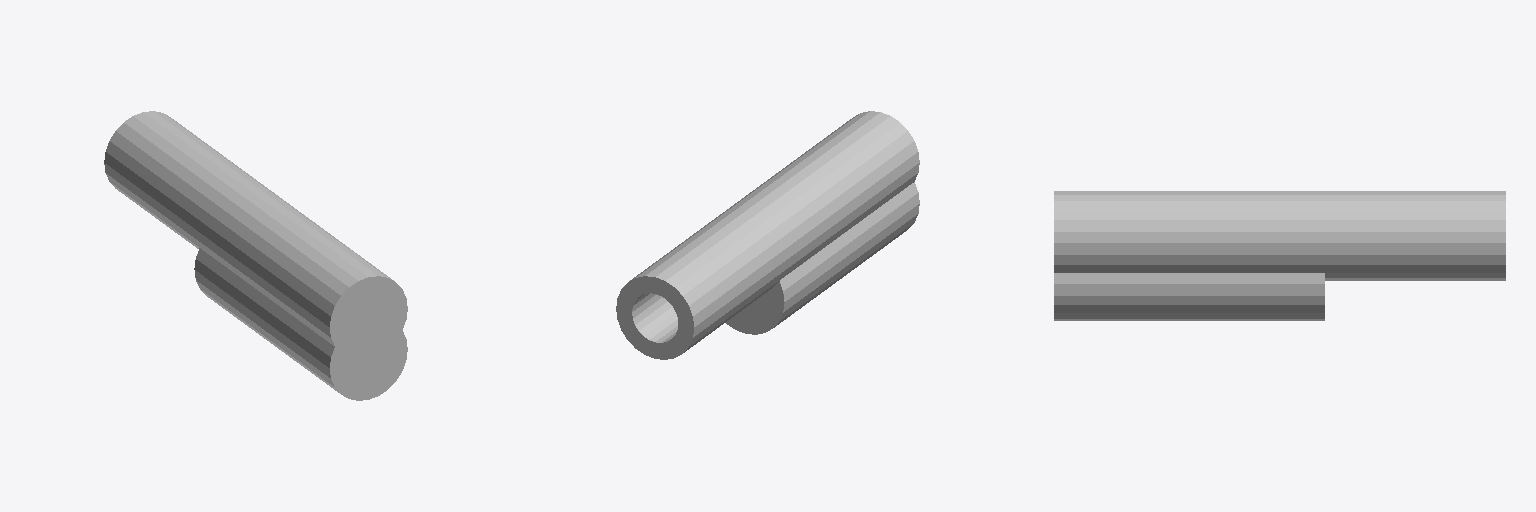
File: barrel4.model.obj
3 views of the same model, side by side, from view 1: azimuth 30°, elevation 25°; view 2: azimuth 150°, elevation 25°; view 3: azimuth 270°, elevation 25° (orthographic).
Size of the model in its own units: 0.2 by 0.3 by 1.